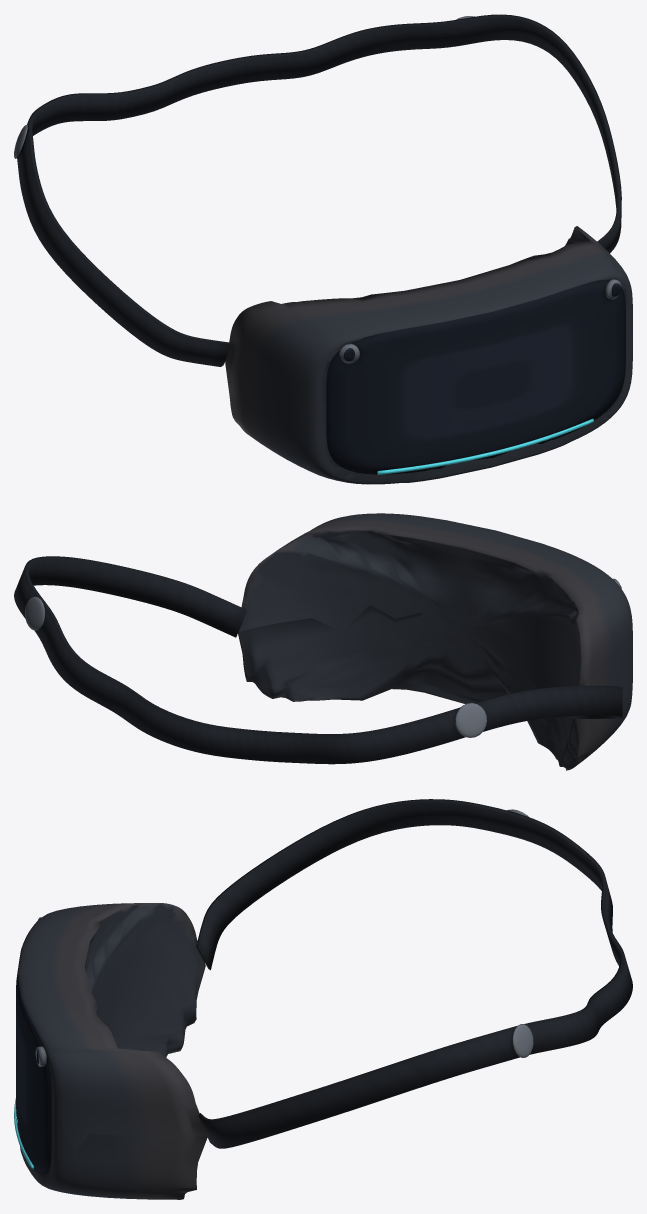
File: eyes_vr_male_lo.glb
3 renders of one model, top to bottom at view 1: azimuth 30°, elevation 25°; view 2: azimuth 150°, elevation 25°; view 3: azimuth 270°, elevation 25°, orthographic. The views are drawn at different scales.
Parts seen in each view (by area): view 1: eyes_vr_lo; view 2: eyes_vr_lo; view 3: eyes_vr_lo.
Boxes of the visible parts, x1,y1,x2,y2 form: eyes_vr_lo: (14, 14, 632, 484); eyes_vr_lo: (14, 513, 632, 770); eyes_vr_lo: (14, 799, 632, 1199).
Size of the model in its own units: 0.5428 by 0.2101 by 0.5206.
Materials: 1 (1 with a texture image).
